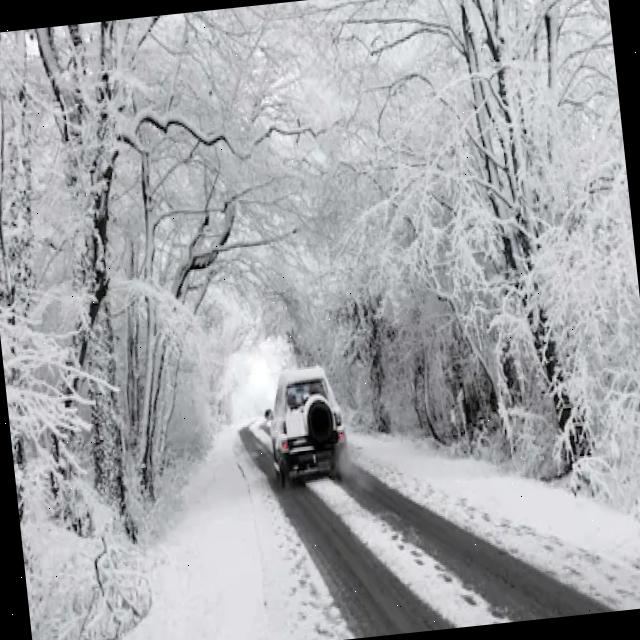car: (260, 362, 346, 486)
